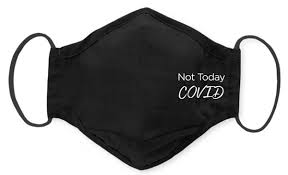FaceMask: (47, 7, 241, 170)
